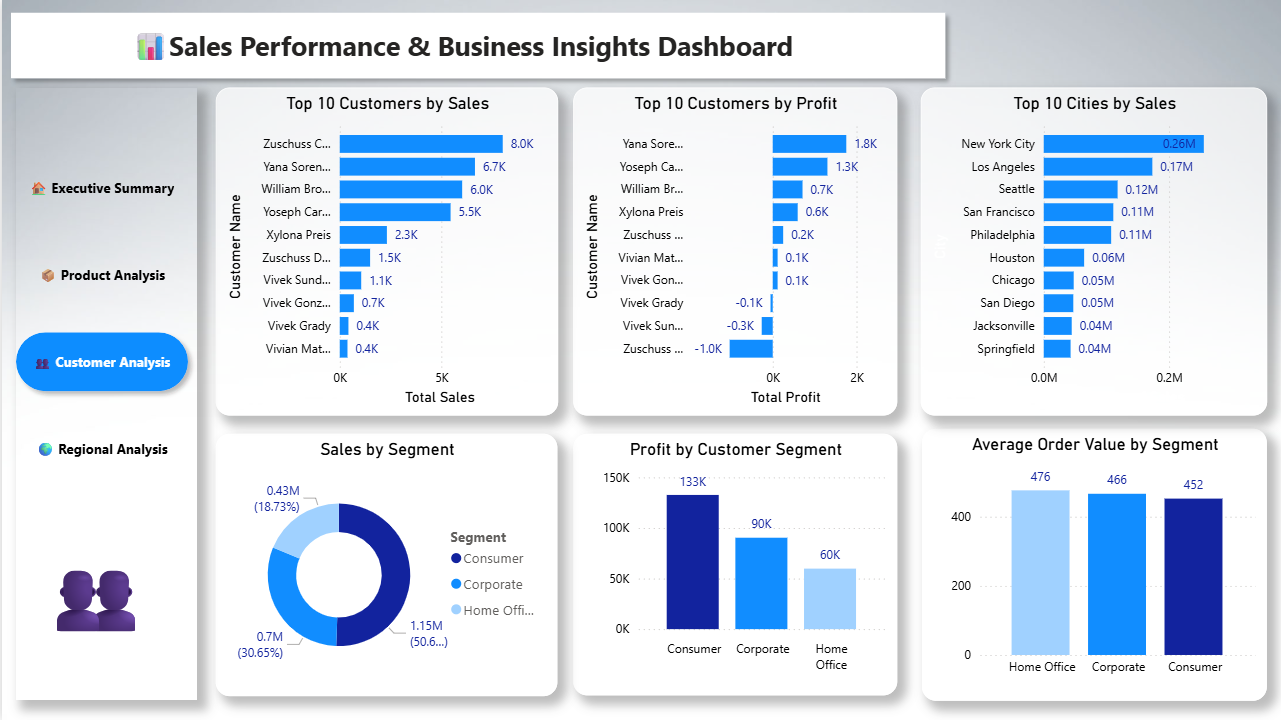

Layout of this report page (visuals, bound fields, positions):
{"tool":"powerbi","page":{"name":"👥 Customer Analysis","canvas":[1280,720],"ordinal":2},"visuals":[{"type":"clusteredBarChart","title":"Top 10 Customers by Sales","fields":{"Y":["sales_cleaned_final.Total Sales"],"Category":["sales_cleaned_final.Customer Name"]},"box":[214.1,87.3,342.3,328.2],"z":0},{"type":"clusteredBarChart","title":"Top 10 Customers  by Profit","fields":{"Category":["sales_cleaned_final.Customer Name"],"Y":["sales_cleaned_final.Total Profit"]},"box":[571.8,87.3,323.9,328.2],"z":1000},{"type":"clusteredColumnChart","title":" Profit by Customer Segment","fields":{"Category":["sales_cleaned_final.Segment"],"Y":["sales_cleaned_final.Total Profit"]},"box":[571.8,433.8,323.9,262],"z":2000},{"type":"clusteredColumnChart","title":"Average Order Value by Segment","fields":{"Category":["sales_cleaned_final.Segment"],"Y":["sales_cleaned_final.Avg Order Value"]},"box":[919.7,428.2,345.1,271.8],"z":3000},{"type":"clusteredBarChart","title":"Top 10 Cities by Sales","fields":{"Category":["sales_cleaned_final.City"],"Y":["Sum(sales_cleaned_final.Sales)"]},"box":[918.3,87.3,346.5,328.2],"z":4000},{"type":"shape","box":[14.1,87.3,181.7,612.7],"z":5000},{"type":"pageNavigator","box":[4.9,148.5,190.2,341.1],"z":6000},{"type":"textbox","title":"👥","box":[26,532.4,138.5,144.3],"z":7000},{"type":"shape","box":[0,3.7,952.2,83.4],"z":8000},{"type":"textbox","box":[14.7,22.1,905.5,45.4],"z":9000},{"type":"donutChart","title":"Sales by Segment","fields":{"Y":["sales_cleaned_final.Total Sales"],"Category":["sales_cleaned_final.Segment"]},"box":[213.5,434.3,341.9,262.6],"z":10000}]}

Visuals, with their boxes in screenshot pixels (x1, y1, x2, y2), scaled from the page's 1280x720 canvas onto the 1281x720 screenshot:
"Top 10 Customers by Sales" clusteredBarChart: <bbox>214, 87, 557, 416</bbox>
"Top 10 Customers  by Profit" clusteredBarChart: <bbox>572, 87, 896, 416</bbox>
" Profit by Customer Segment" clusteredColumnChart: <bbox>572, 434, 896, 696</bbox>
"Average Order Value by Segment" clusteredColumnChart: <bbox>920, 428, 1266, 700</bbox>
"Top 10 Cities by Sales" clusteredBarChart: <bbox>919, 87, 1266, 416</bbox>
shape: <bbox>14, 87, 196, 700</bbox>
pageNavigator: <bbox>5, 148, 195, 490</bbox>
"👥" textbox: <bbox>26, 532, 165, 677</bbox>
shape: <bbox>0, 4, 953, 87</bbox>
textbox: <bbox>15, 22, 921, 68</bbox>
"Sales by Segment" donutChart: <bbox>214, 434, 556, 697</bbox>
